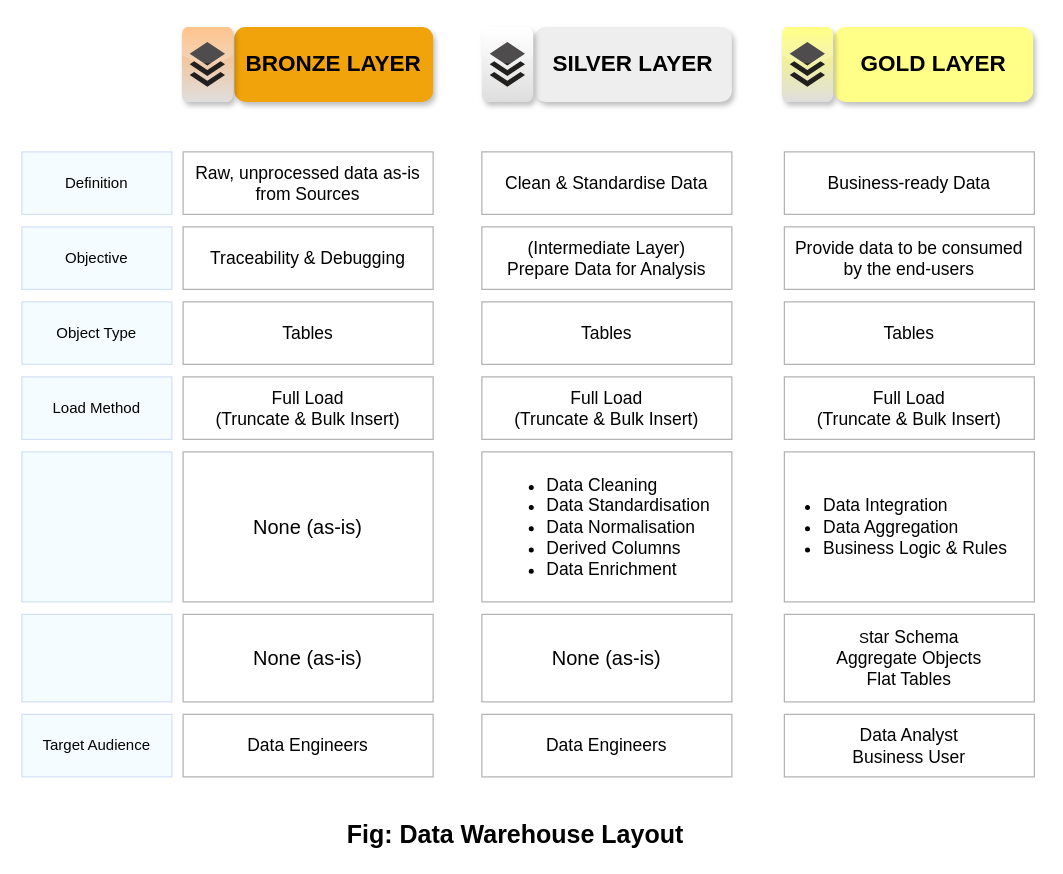
Some shapes in this 1063 by 874 pixel diagram are drawn without their labels. Here are the shapes that lost their labels. From the top down, the centre of each, then its label:
At point (96, 526): "Data Transformation".
At point (96, 657): "Data Modelling".
